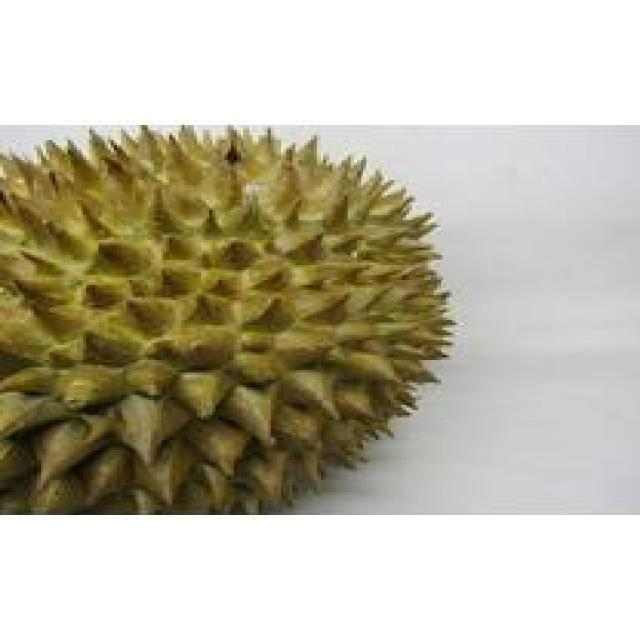non_orange: (0, 97, 477, 505)
